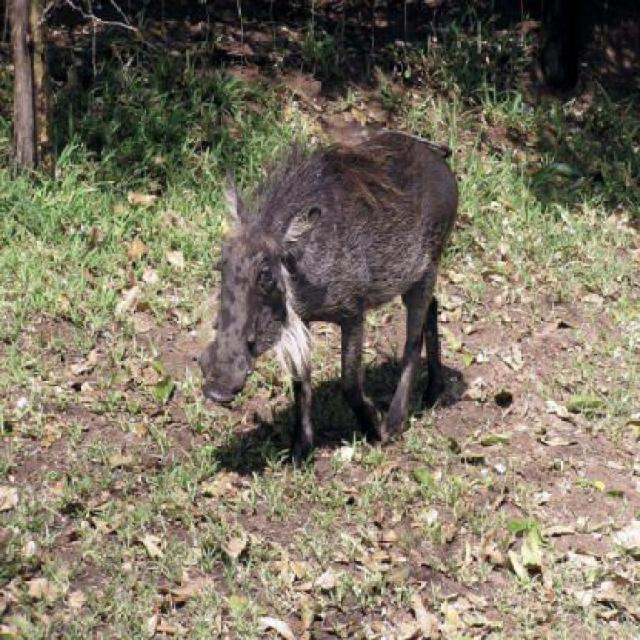Boar: (163, 101, 474, 442)
